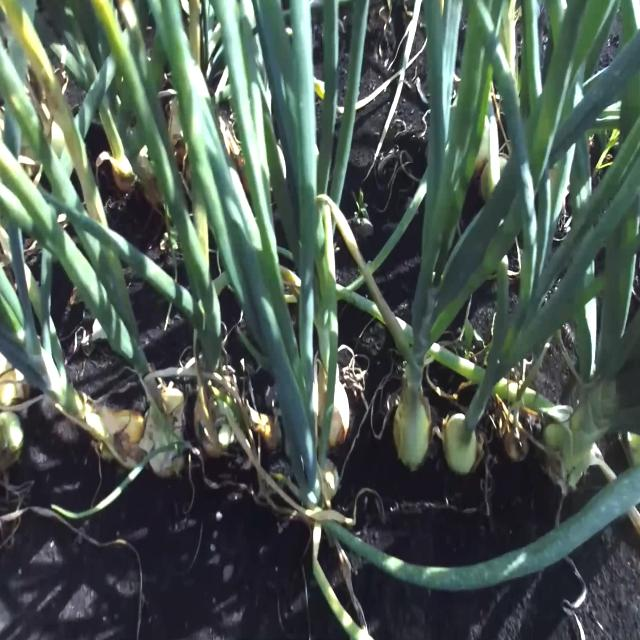onion: (145, 392, 186, 477), (197, 373, 236, 459), (390, 397, 431, 470), (314, 375, 351, 446), (105, 405, 144, 470), (443, 414, 475, 478), (0, 414, 23, 472)
